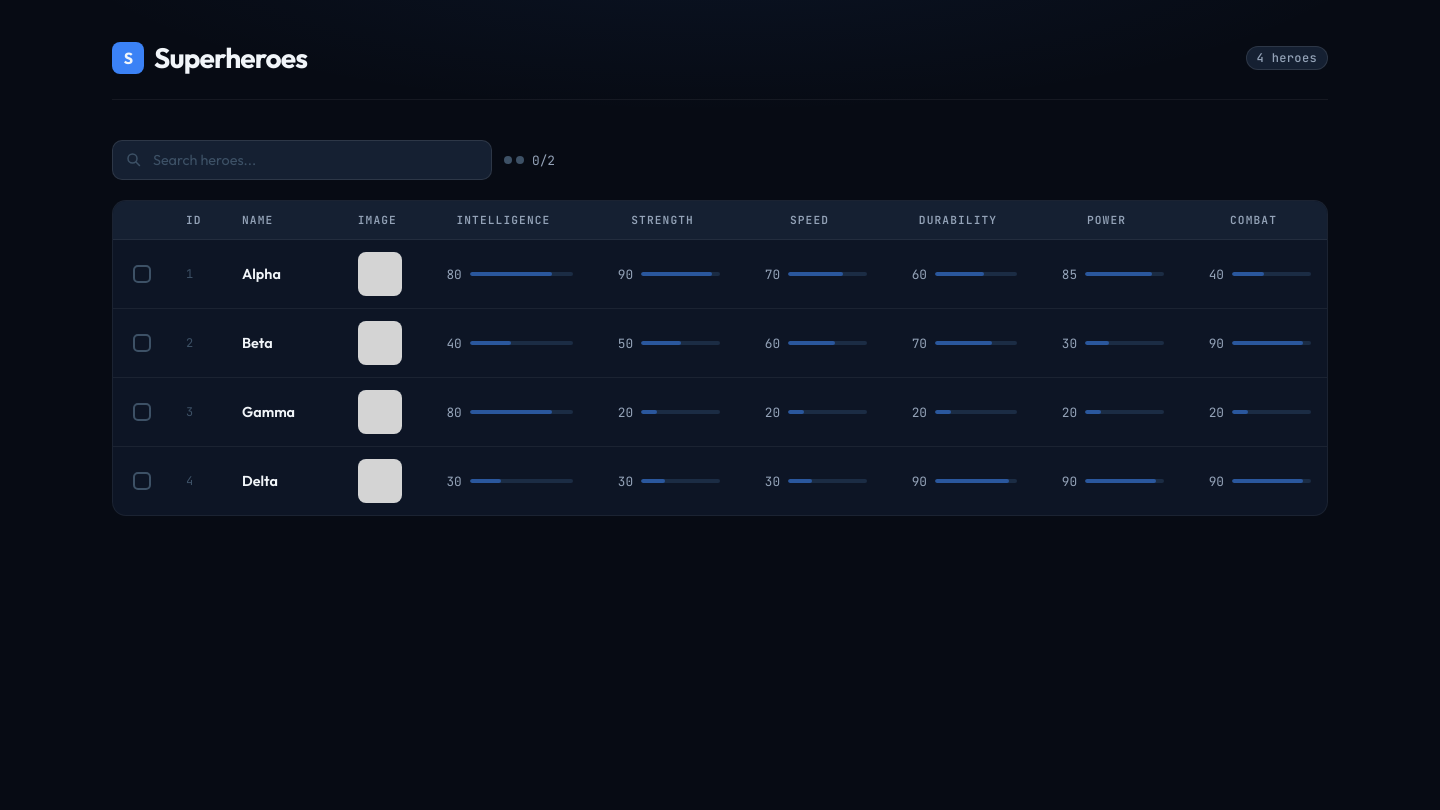
Test case: compare view › switches to compare view on Compare click
The width and height of the screenshot is (1440, 810).
Click the checkbox in the row of "Alpha": (142, 274) [133,265,151,283]
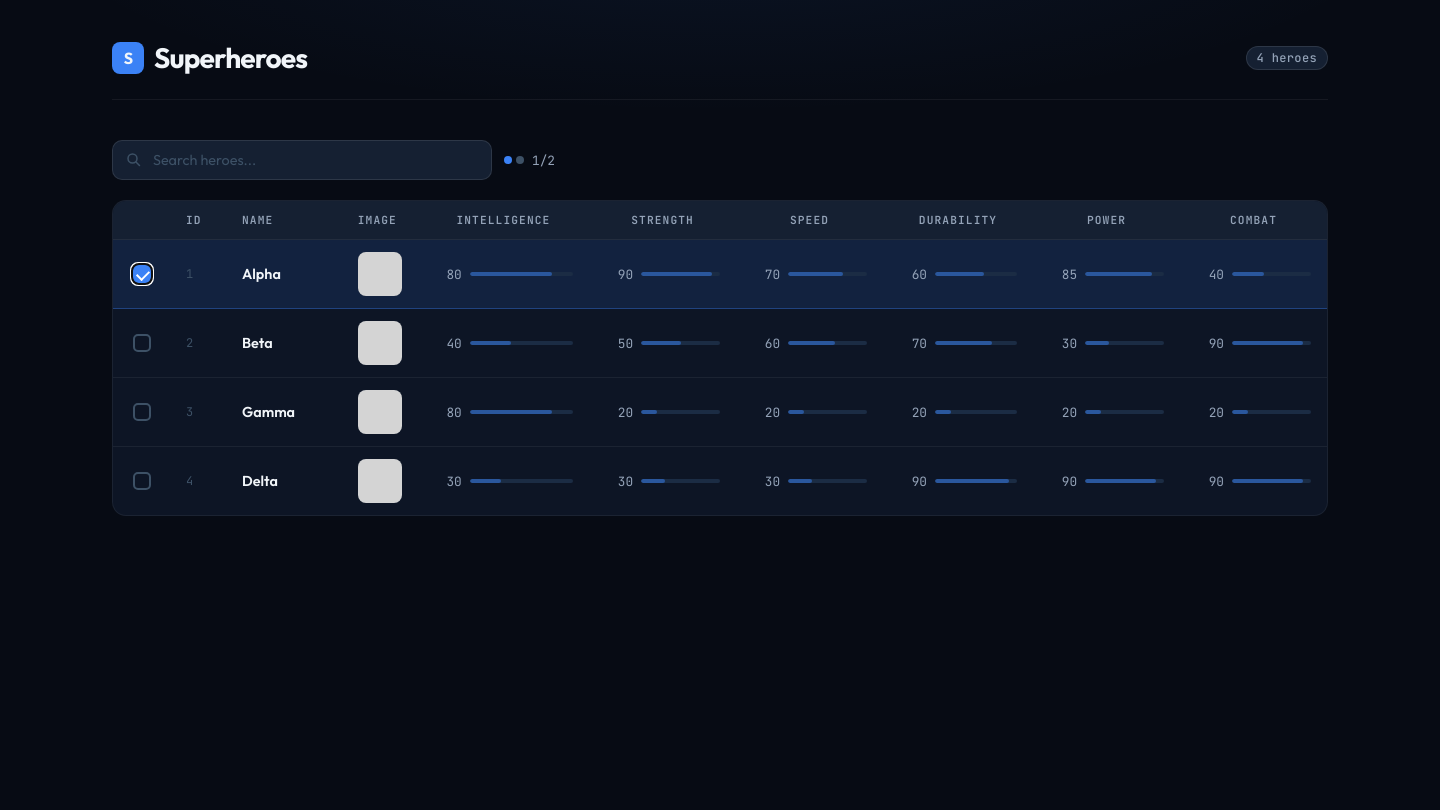
Click the checkbox in the row of "Beta": (142, 343) [133,334,151,352]
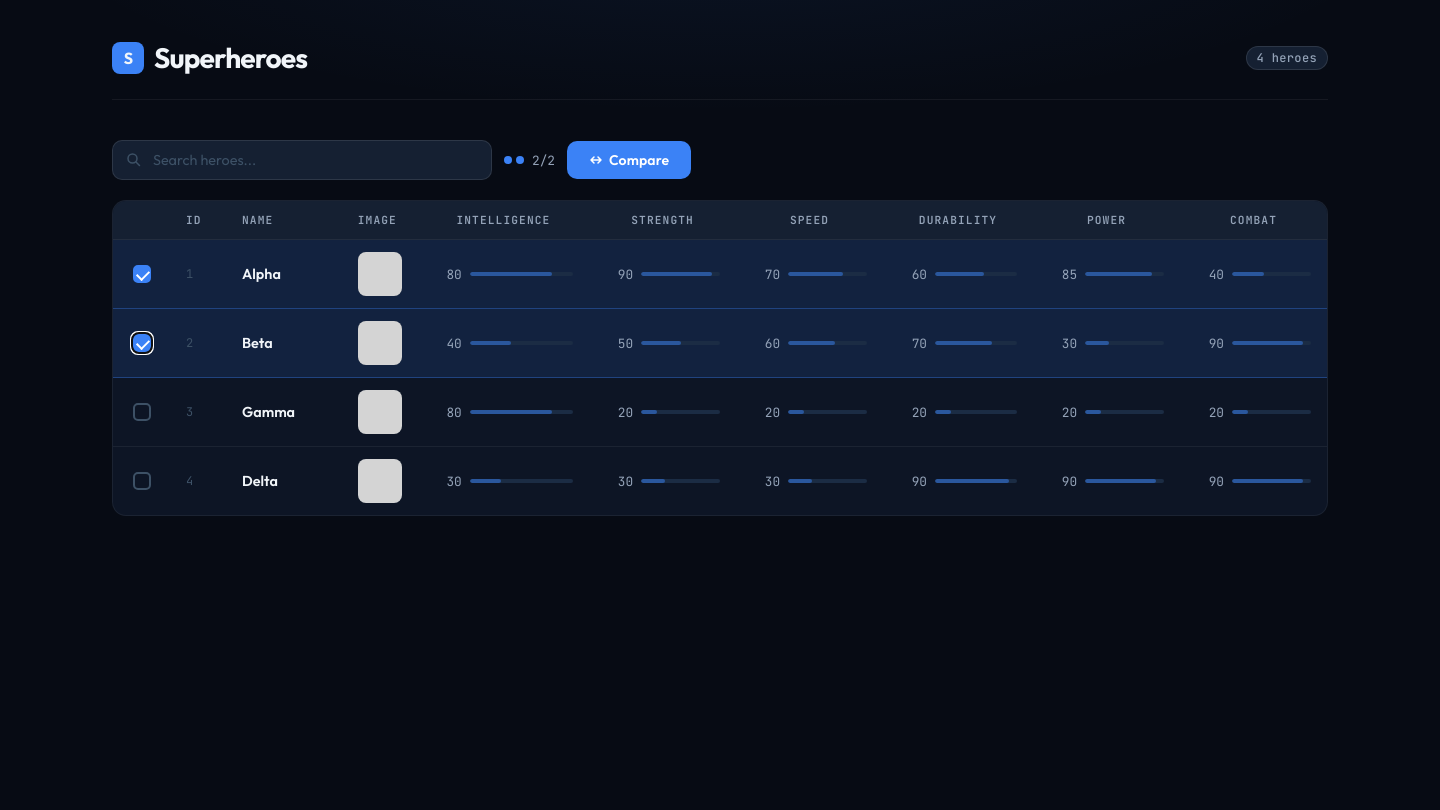
Click the button "Compare": (629, 160) [567,141,691,179]
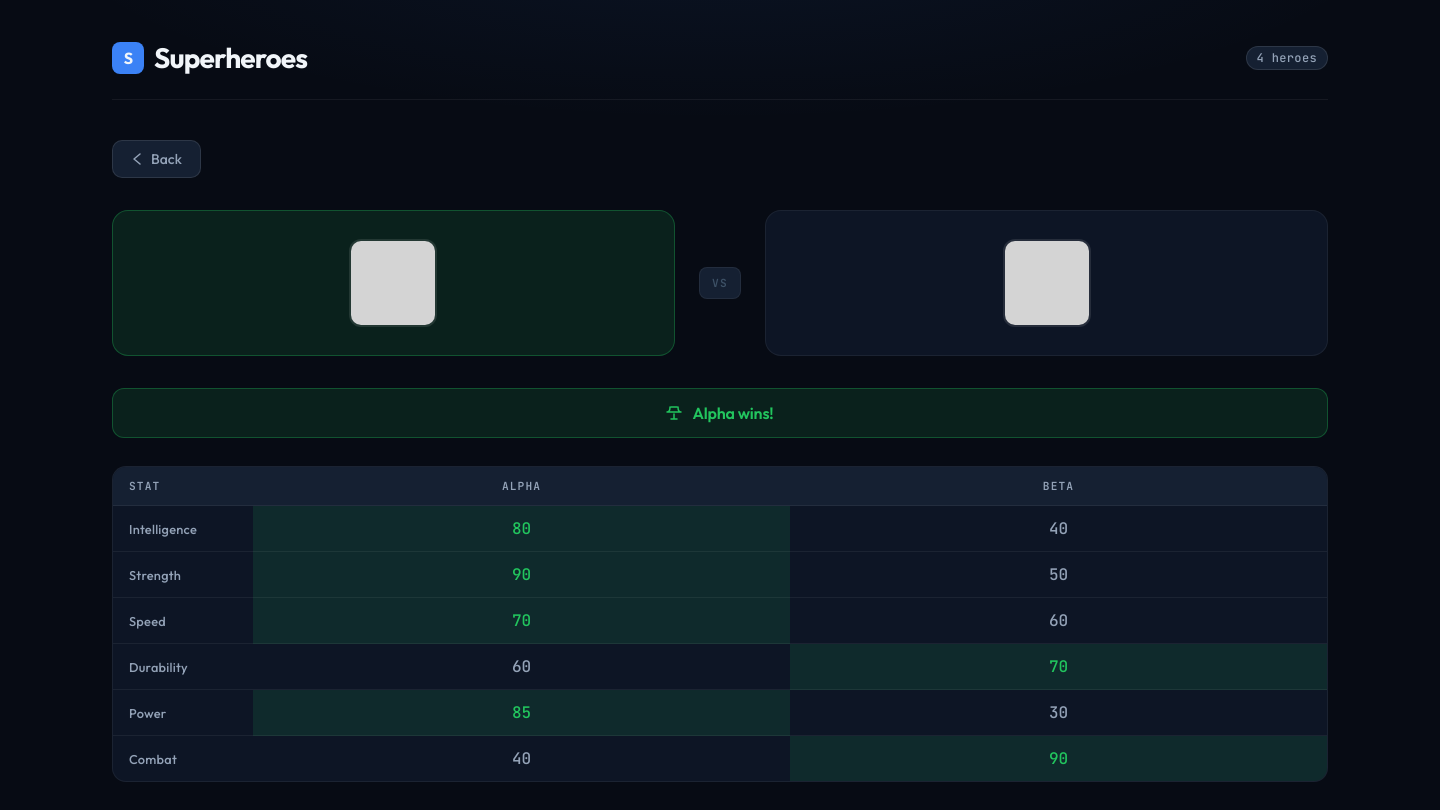
Check: no checkboxes are shown
Check: the button "Back" is shown, box [112,140,201,178]
